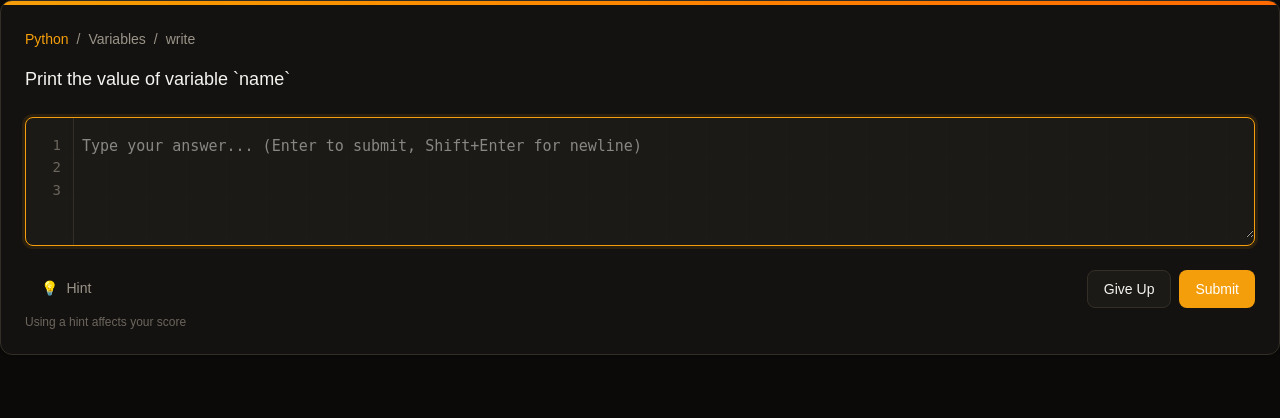
Test case: ExerciseCard › hint interaction › reveals hint when hint button clicked
What coordinates should you click on to do the following:
click the button "💡 Hint"
I would click on:
 (66, 288)
Its box is x1=25 y1=270 x2=107 y2=306.
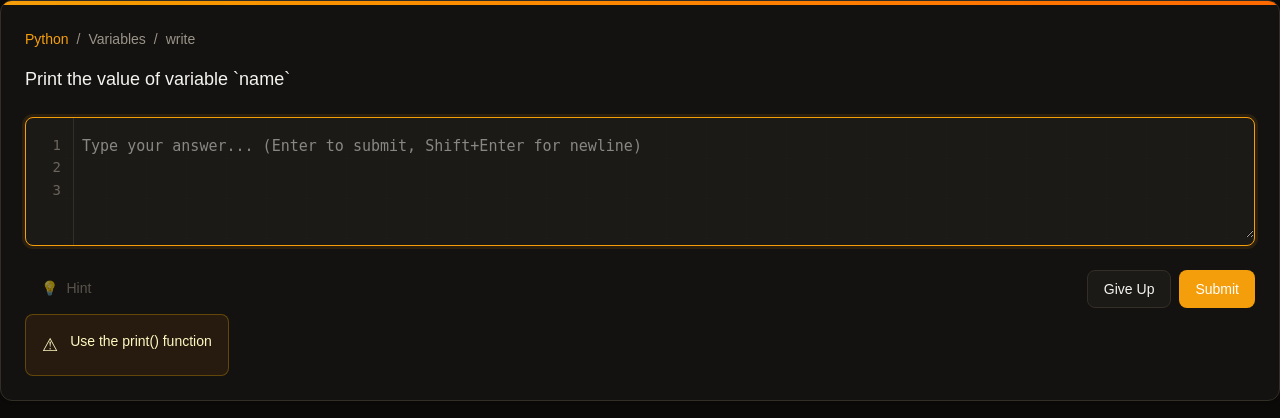
Check: the text "Use the print() function" is shown, box x1=70 y1=331 x2=212 y2=351
